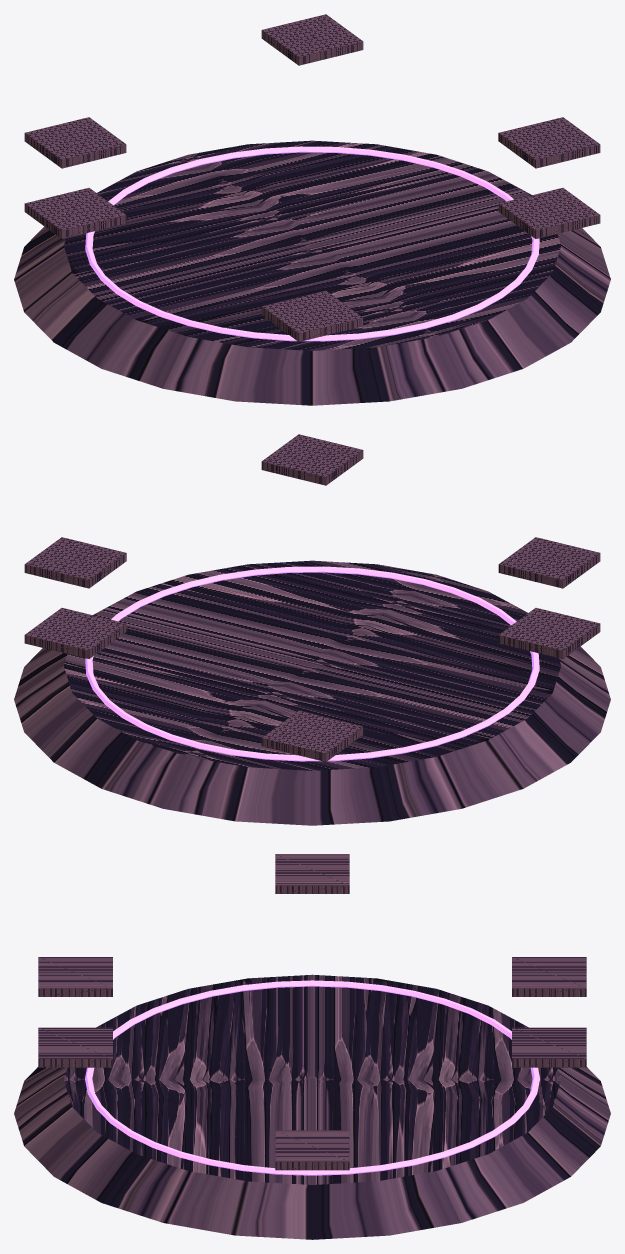
File: eclipseDais.glb
The picture shows the model from 3 angles, top to bottom: view 1: azimuth 30°, elevation 25°; view 2: azimuth 150°, elevation 25°; view 3: azimuth 270°, elevation 25°; orthographic projection.
Parts seen in each view (by area): view 1: LOD0._kind_trim_band_obsidian_repeat, LOD0._color_a56cff_emissive_a56cff_; view 2: LOD0._kind_trim_band_obsidian_repeat, LOD0._color_a56cff_emissive_a56cff_; view 3: LOD0._kind_trim_band_obsidian_repeat, LOD0._color_a56cff_emissive_a56cff_.
Boxes of the visible parts, x1,y1,x2,y2 form: LOD0._kind_trim_band_obsidian_repeat: (14,14,610,405); LOD0._color_a56cff_emissive_a56cff_: (85,146,539,341); LOD0._kind_trim_band_obsidian_repeat: (14,434,610,825); LOD0._color_a56cff_emissive_a56cff_: (85,566,539,761); LOD0._kind_trim_band_obsidian_repeat: (14,854,610,1239); LOD0._color_a56cff_emissive_a56cff_: (85,980,539,1175).
Size of what is drawn, in the model's own units: 100 by 22.75 by 96.
Materials: 2 (1 with a texture image).
